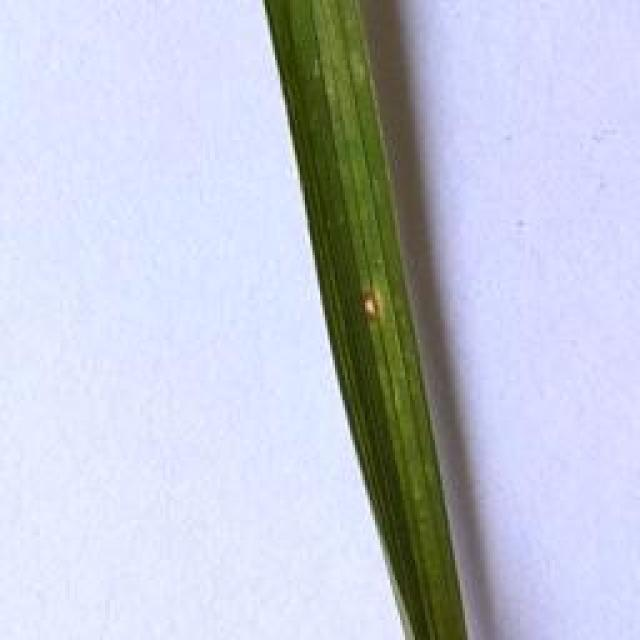Unhealthy: (358, 292, 382, 323)
